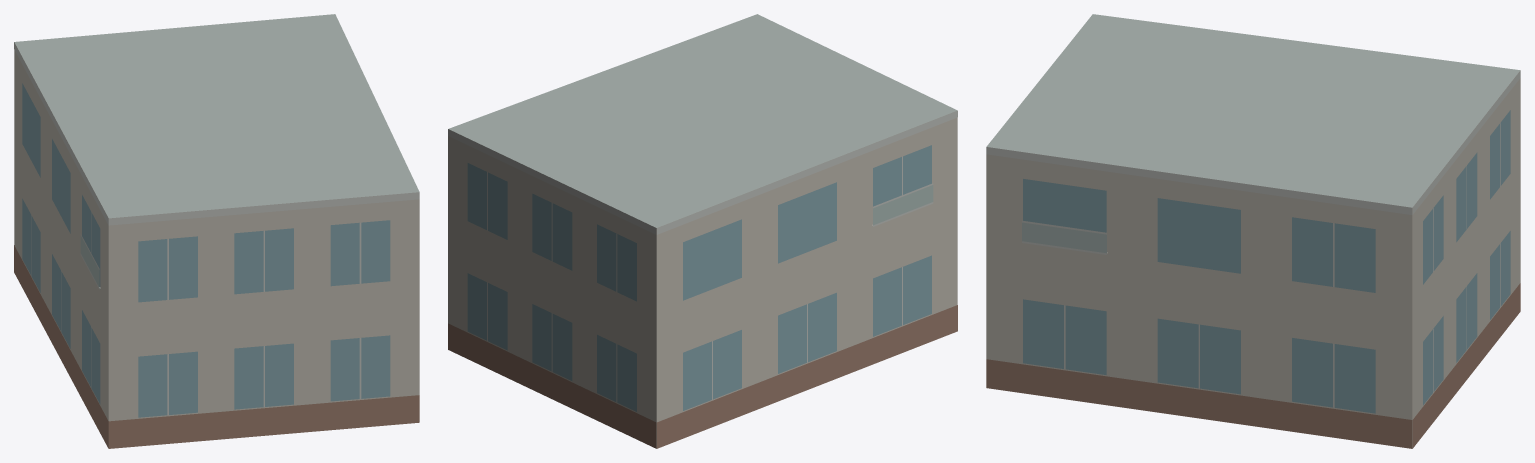
The model's file is survey-upis-32768864.glb.
3 renders of one model, left to right at view 1: azimuth 30°, elevation 25°; view 2: azimuth 150°, elevation 25°; view 3: azimuth 270°, elevation 25°, orthographic. The views are drawn at different scales.
Parts seen in each view (by area): view 1: survey-upis-32768864.tmp; view 2: survey-upis-32768864.tmp; view 3: survey-upis-32768864.tmp.
Boxes of the visible parts, box(x1,y1,x2,y2) form: survey-upis-32768864.tmp: box(14, 14, 419, 448); survey-upis-32768864.tmp: box(448, 14, 957, 448); survey-upis-32768864.tmp: box(986, 14, 1520, 448).
Size of the model in its own units: 13.45 by 7.8 by 15.67.
